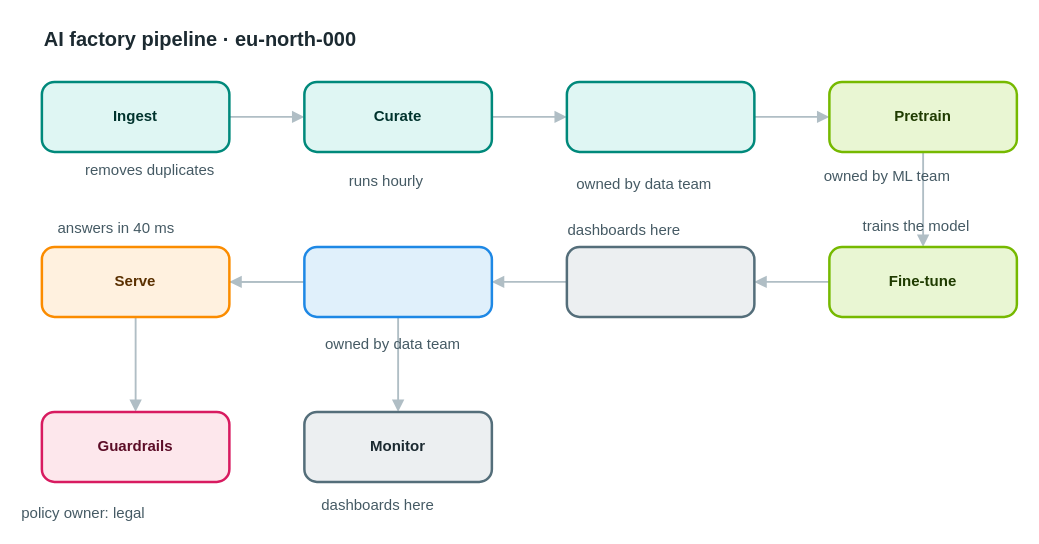
This 1039x544 diagram has some shape labels left out. The centre of each missing label's shape, as x and y in pixels:
Evaluate: [660,281]
Model registry: [397,281]
Tokenize: [660,116]
